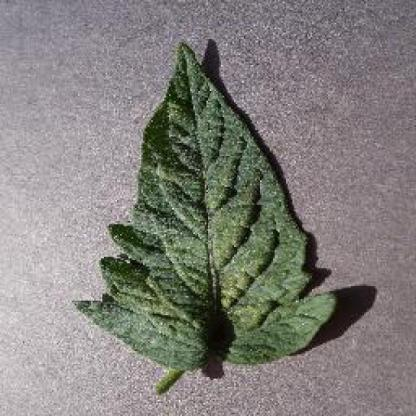Tomato_Spider_Mites: (75, 42, 337, 367)
